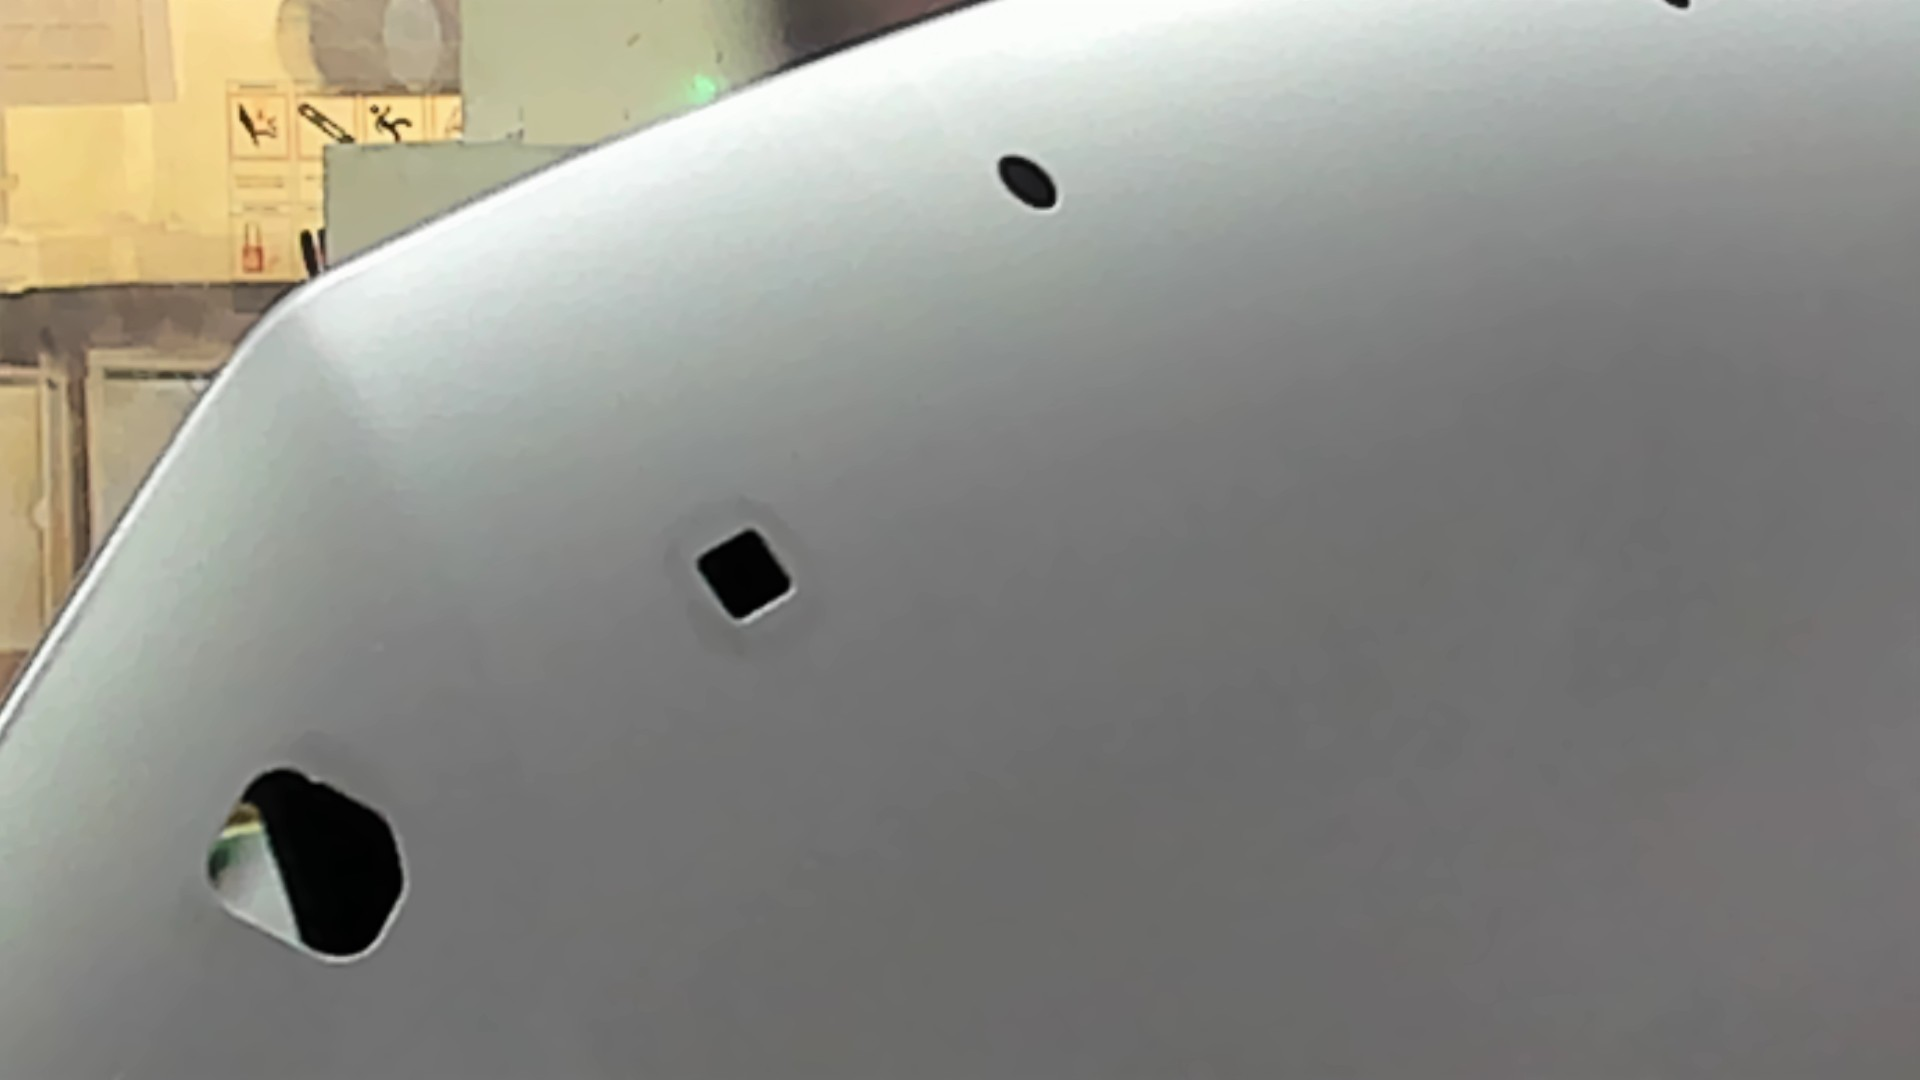chico: (978, 141, 1080, 232)
grande: (171, 754, 438, 978)
mediano: (661, 516, 828, 638)
